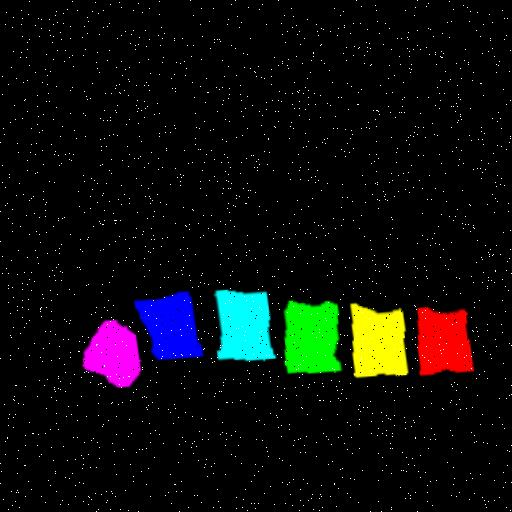L1: (410, 310, 466, 378)
L2: (342, 307, 399, 380)
L3: (276, 303, 332, 376)
L4: (208, 291, 268, 362)
L5: (129, 293, 195, 361)
S1: (75, 321, 133, 388)
